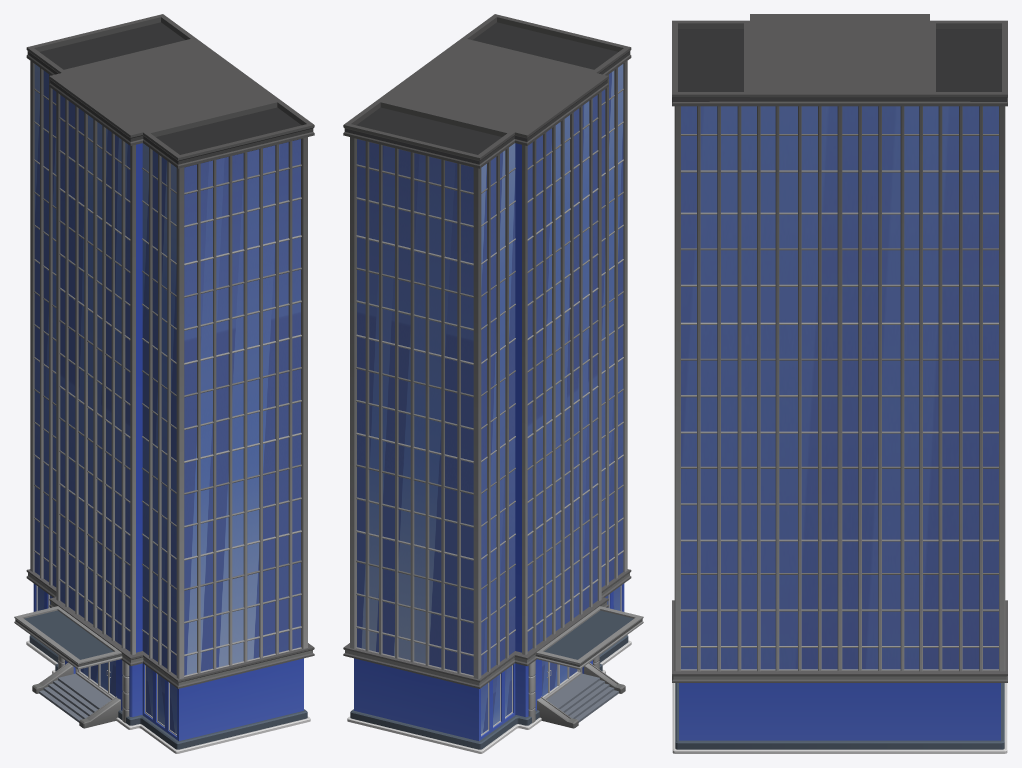
Rendered from Building_17_3_HH.glb.
3 renders of one model, left to right at view 1: azimuth 30°, elevation 25°; view 2: azimuth 150°, elevation 25°; view 3: azimuth 270°, elevation 25°, orthographic. The views are drawn at different scales.
Visible parts, largest first — view 1: Building_17_3_HH; view 2: Building_17_3_HH; view 3: Building_17_3_HH.
Part boxes in pixels (x1,y1,x2,y2): Building_17_3_HH: [14, 14, 314, 753]; Building_17_3_HH: [343, 14, 643, 753]; Building_17_3_HH: [672, 14, 1007, 753].
Size of the model in its own units: 8.57 by 25.36 by 11.68.
4 materials, 4 textured.
